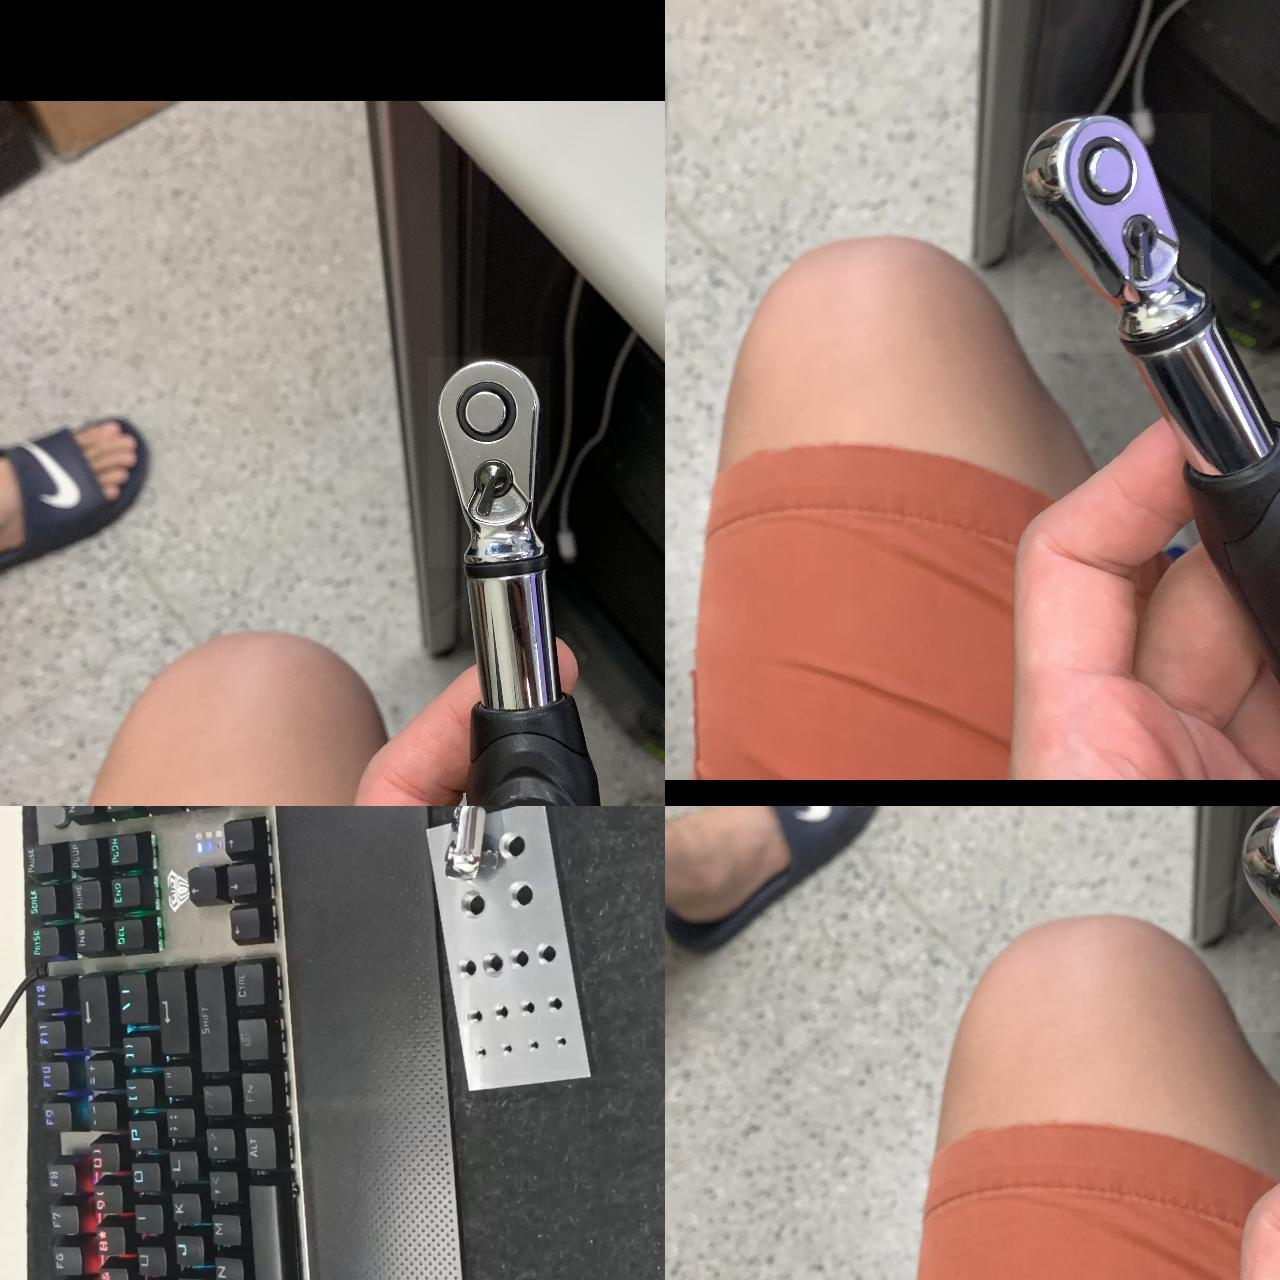Tool: (1015, 113, 1211, 352), (428, 356, 550, 566), (1235, 806, 1280, 1032), (443, 806, 501, 876)
